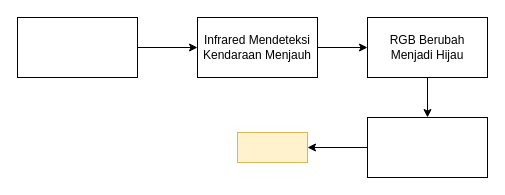
This 505x195 diagram has some shape labels left out. The shapes that lost their labels are listed below. From the top down, each one's centre as x and y in pixels, then its label:
point (77, 47): Kendaraan Mulai Bergerak
point (427, 147): Mengupdate Slot Parkir
